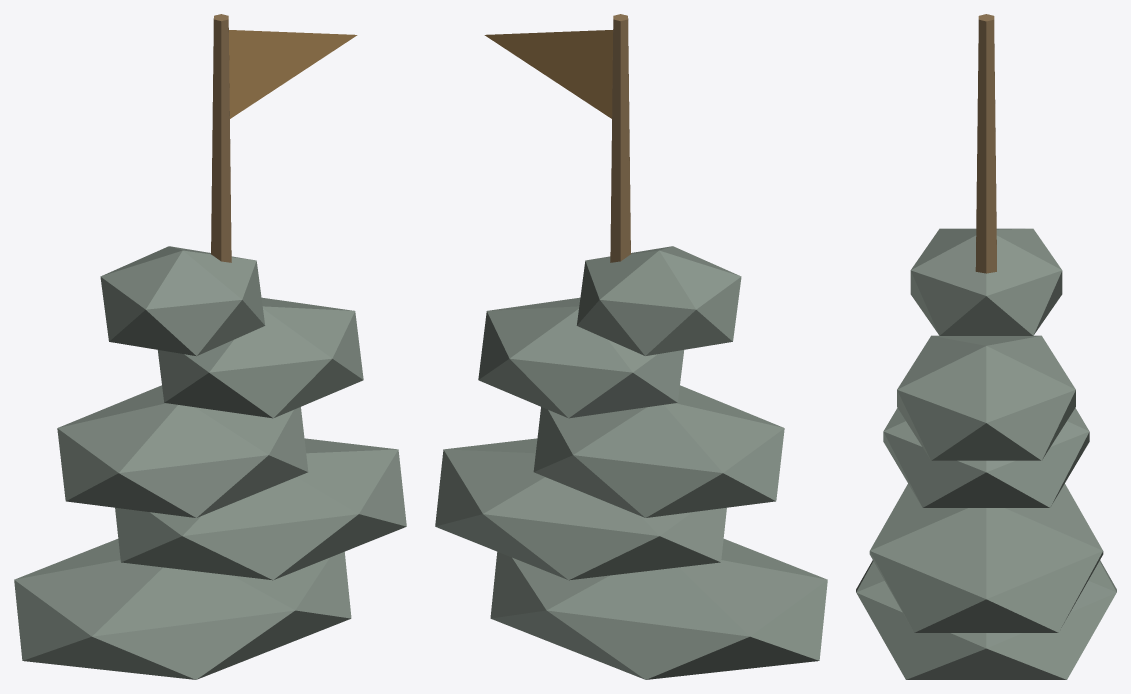
The model's file is map-exclusive-v3__ridge_05.glb.
3 views of the same model, side by side, from view 1: azimuth 30°, elevation 25°; view 2: azimuth 150°, elevation 25°; view 3: azimuth 270°, elevation 25° (orthographic). The views are drawn at different scales.
Visible parts, largest first — view 1: ridge_05; view 2: ridge_05; view 3: ridge_05.
Part boxes in pixels (x1=…): ridge_05: x1=14, y1=14, x2=406, y2=679; ridge_05: x1=435, y1=14, x2=827, y2=679; ridge_05: x1=856, y1=14, x2=1116, y2=679.
Bounding box in the file's own units: 1.32 × 2.09 × 0.7656.
